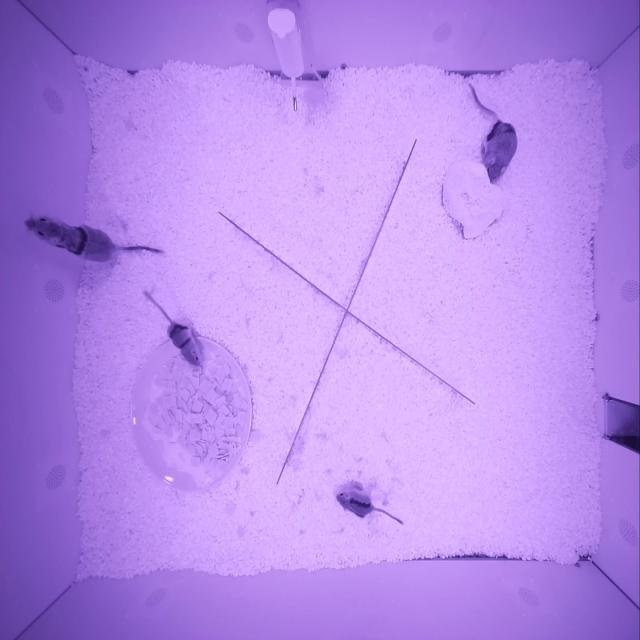adult_back: (483, 121, 517, 185)
adult_front: (24, 214, 116, 262)
pup_h_stripe: (165, 322, 201, 365)
pup_v_stripe: (336, 489, 373, 518)
